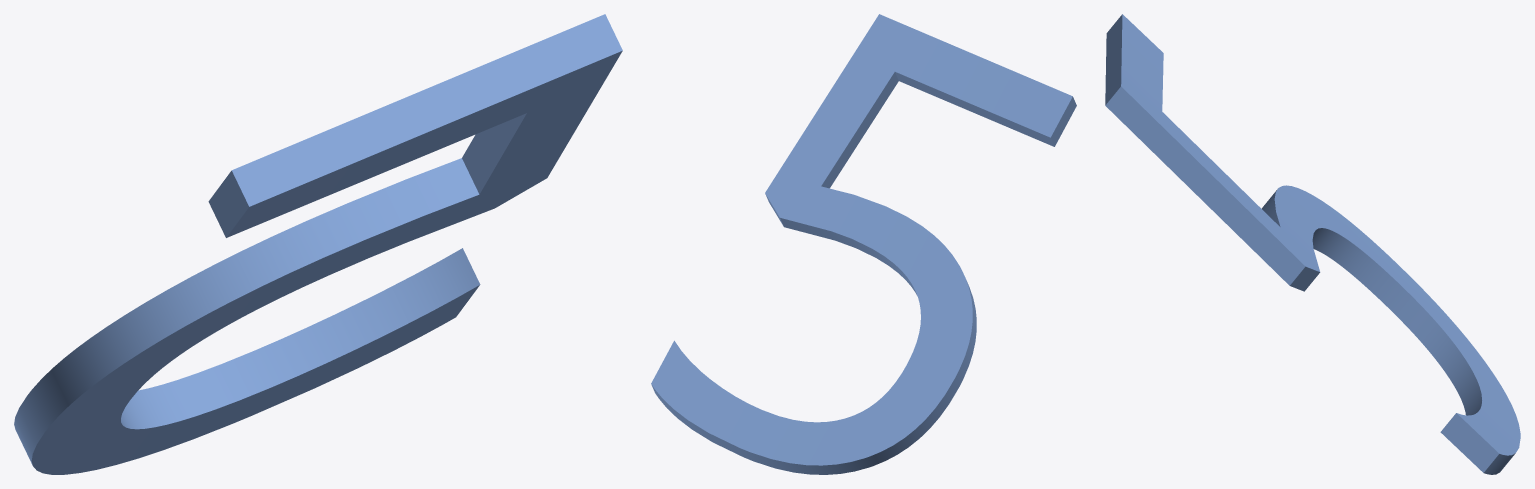
Rendered from New_Number_5.gltf.
The picture shows the model from 3 angles, left to right: view 1: azimuth 30°, elevation 25°; view 2: azimuth 150°, elevation 25°; view 3: azimuth 270°, elevation 25°; orthographic projection. The views are drawn at different scales.
Parts seen in each view (by area): view 1: Part 365; view 2: Part 365; view 3: Part 365.
Boxes of the visible parts, left/top/right/bottom form: Part 365: left=14, top=14, right=622, bottom=474; Part 365: left=651, top=14, right=1076, bottom=474; Part 365: left=1105, top=14, right=1520, bottom=474.
Bounding box in the file's own units: 0.00371 × 0.00431 × 0.00415.
